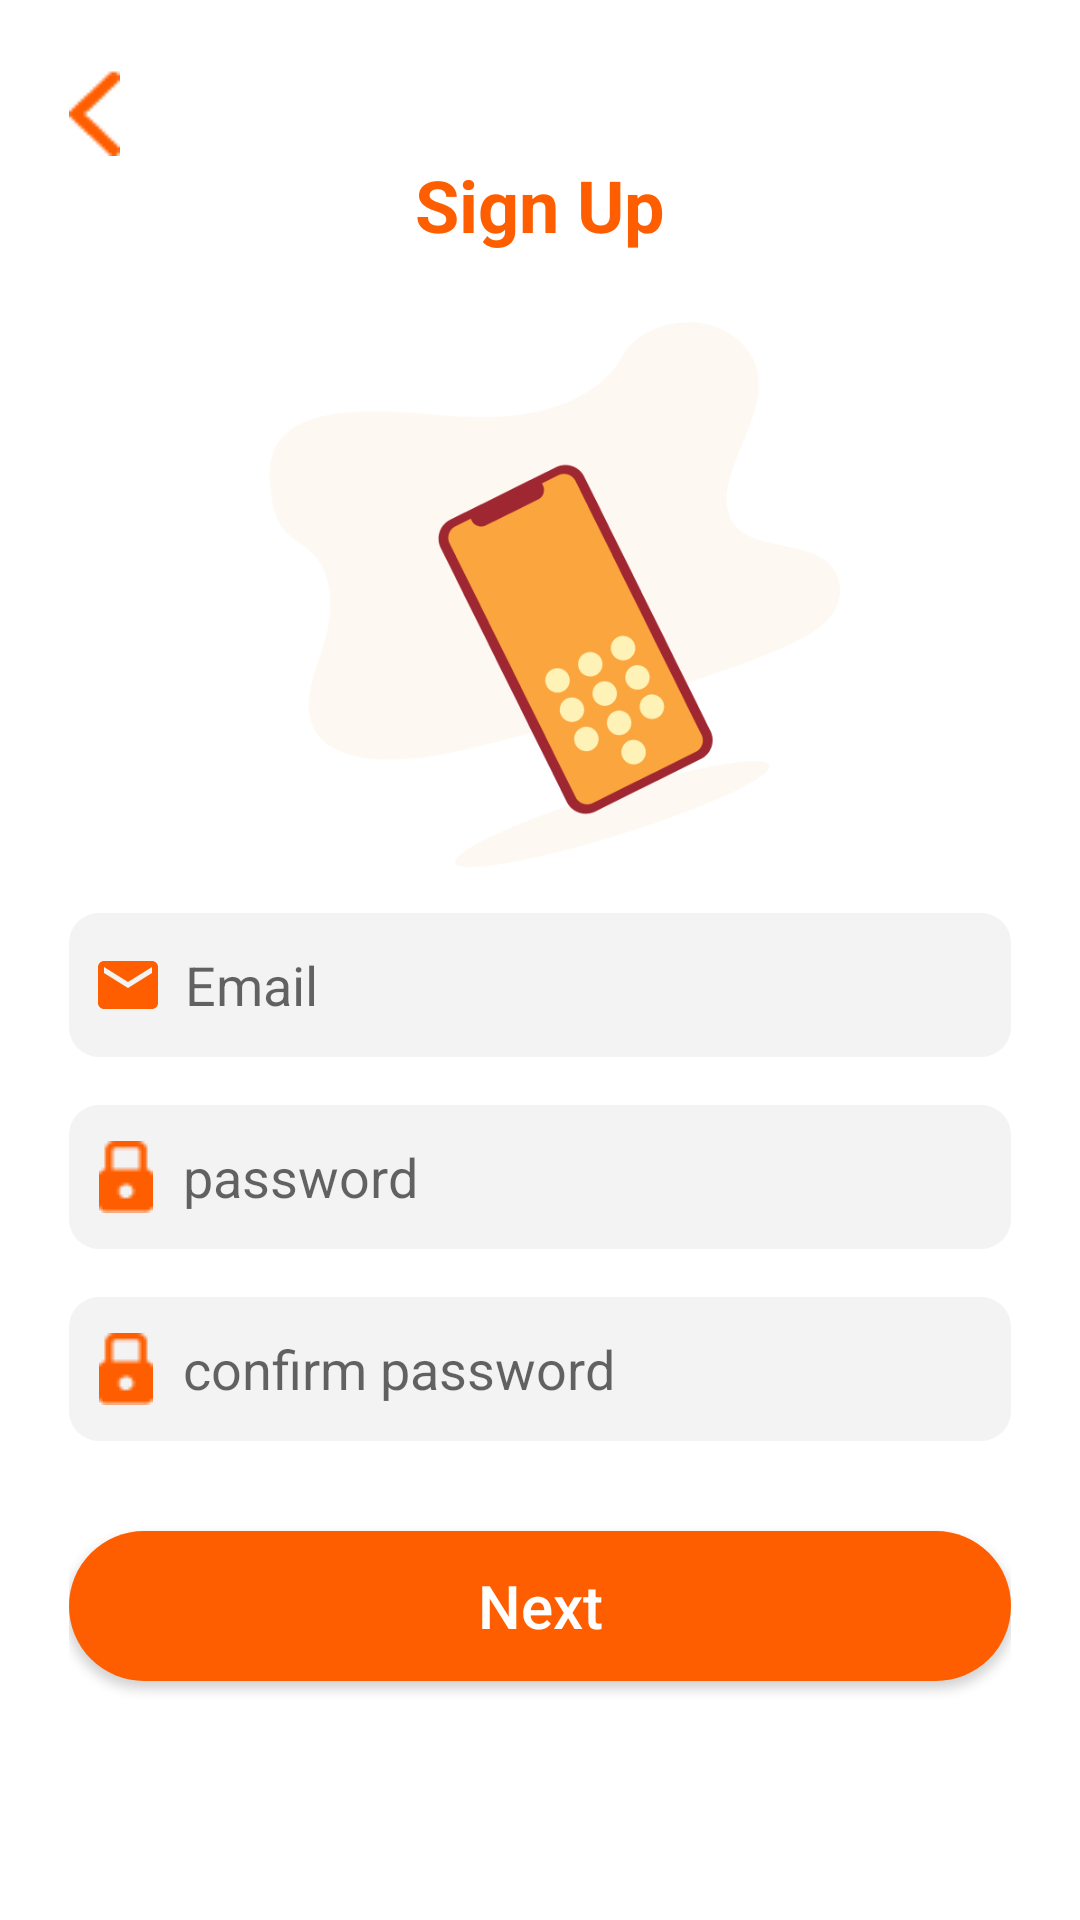

Locate icon controls on the screen. Image size 1080px x 1920px, boxes as (x1=x1, y1=y1, x2=x2, y2=y2).
back: (x1=69, y1=71, x2=120, y2=156)
